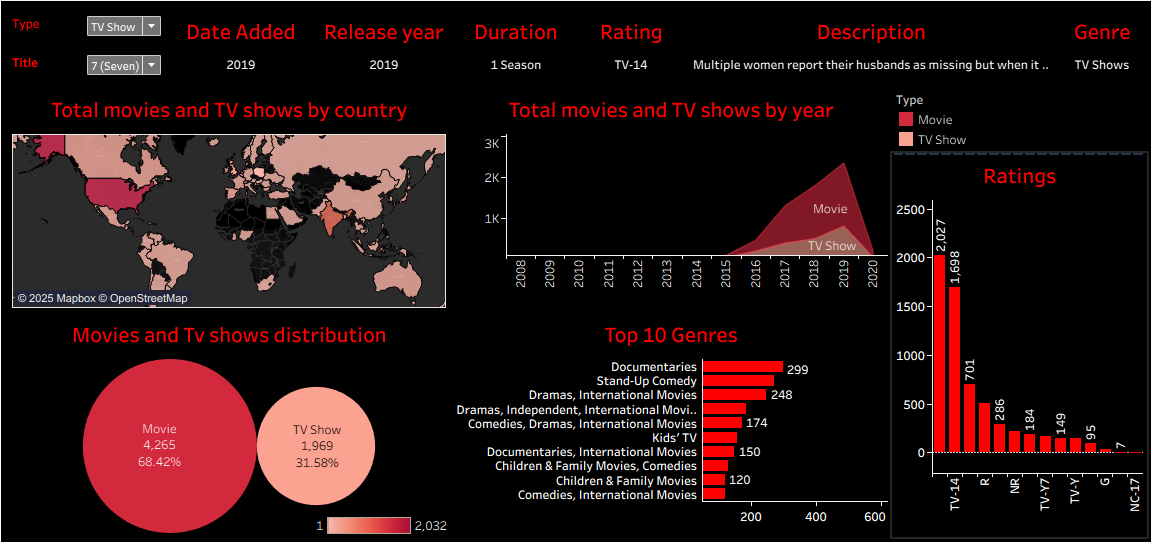

The page's visual inventory and layout, read from the dashboard file:
{"tool":"tableau","page":{"name":"Netflix","canvas":[1155,544],"ordinal":0},"visuals":[{"type":"filter","title":"Description","param":"[federated.1qpat7q1jje5wc1afh2j61ctvsxj].[none:type:nk]","box":[8,8,160,39]},{"type":"worksheet","title":"Date added","mark":"Automatic","box":[168,8,145,78]},{"type":"worksheet","title":"Release year","mark":"Automatic","box":[313,8,141,78]},{"type":"worksheet","title":"Duration","mark":"Automatic","box":[454,8,123,78]},{"type":"worksheet","title":"Rating","mark":"Automatic","box":[577,8,108,78]},{"type":"worksheet","title":"Description","mark":"Automatic","box":[685,8,372,78]},{"type":"worksheet","title":"Genre","mark":"Automatic","box":[1057,8,90,78]},{"type":"filter","title":"Description","param":"[federated.1qpat7q1jje5wc1afh2j61ctvsxj].[none:title:nk]","box":[8,47,160,39]},{"type":"worksheet","title":"Total movies and Tv shows by country","mark":"Multipolygon","box":[8,86,442,225]},{"type":"worksheet","title":"Total movies and Tv shows by year","mark":"Area","rows":["show_id"],"cols":["date_added"],"box":[450,86,442,225]},{"type":"legend","title":"Movies and Tv shows distribution","param":"[federated.1qpat7q1jje5wc1afh2j61ctvsxj].[none:type:nk]","box":[892,86,255,66]},{"type":"worksheet","title":"Ratings","mark":"Automatic","rows":["show_id"],"cols":["rating"],"box":[892,152,255,384]},{"type":"worksheet","title":"Movies and Tv shows distribution","mark":"Circle","box":[8,311,442,225]},{"type":"worksheet","title":"Top 10 genres","mark":"Automatic","rows":["listed_in"],"cols":["show_id"],"box":[450,311,442,225]},{"type":"legend","title":"Total movies and Tv shows by country","param":"[federated.1qpat7q1jje5wc1afh2j61ctvsxj].[ctd:show_id:qk]","box":[312,512,140,25]}]}

Visuals, with their boxes in screenshot pixels (x1, y1, x2, y2), scaled from the page's 1155x544 canvas onto the 1151x542 screenshot:
"Description" filter: l=8, t=8, r=167, b=47
"Date added" worksheet: l=167, t=8, r=312, b=86
"Release year" worksheet: l=312, t=8, r=452, b=86
"Duration" worksheet: l=452, t=8, r=575, b=86
"Rating" worksheet: l=575, t=8, r=683, b=86
"Description" worksheet: l=683, t=8, r=1053, b=86
"Genre" worksheet: l=1053, t=8, r=1143, b=86
"Description" filter: l=8, t=47, r=167, b=86
"Total movies and Tv shows by country" worksheet (Multipolygon marks): l=8, t=86, r=448, b=310
"Total movies and Tv shows by year" worksheet (Area marks): l=448, t=86, r=889, b=310
"Movies and Tv shows distribution" legend: l=889, t=86, r=1143, b=151
"Ratings" worksheet: l=889, t=151, r=1143, b=534
"Movies and Tv shows distribution" worksheet (Circle marks): l=8, t=310, r=448, b=534
"Top 10 genres" worksheet: l=448, t=310, r=889, b=534
"Total movies and Tv shows by country" legend: l=311, t=510, r=450, b=535
